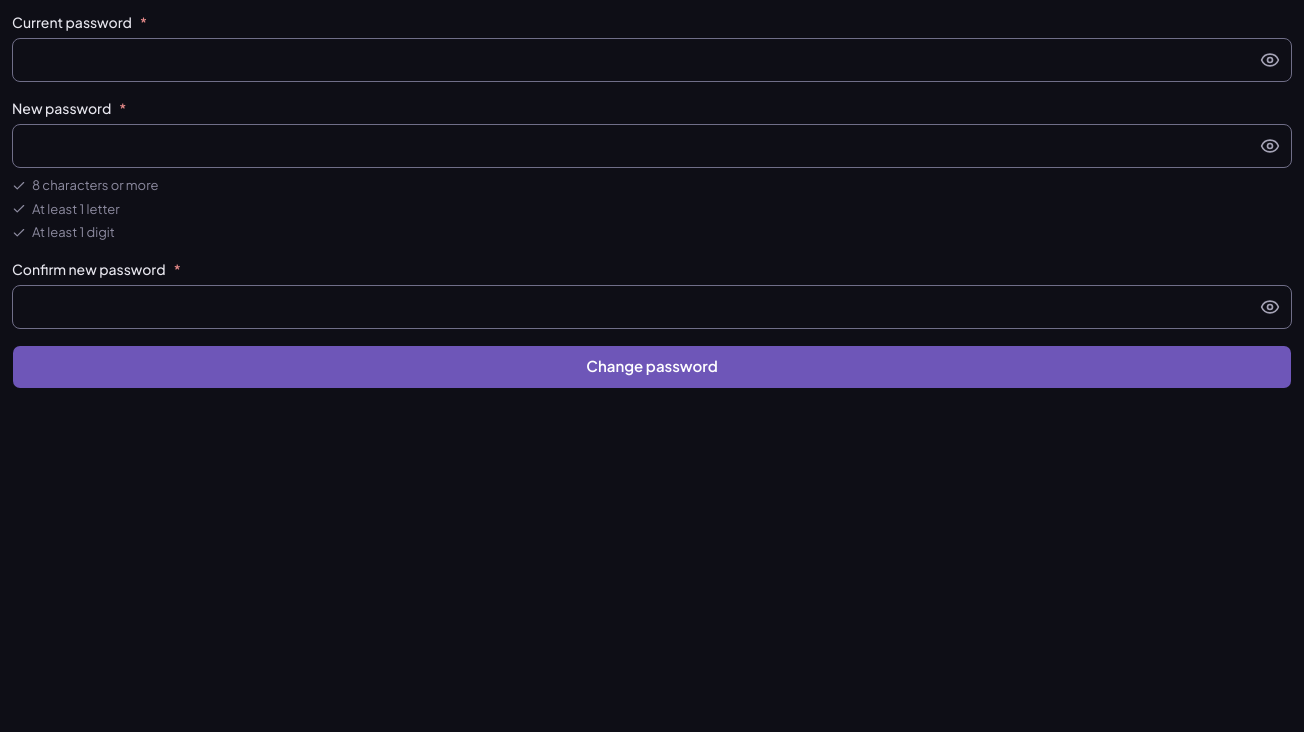
Test: a wrong current password from the backend is shown under the current password field
Type "Wrong1234" into the password field labelled "Current password *" at (652, 60), box [12,38,1292,82]
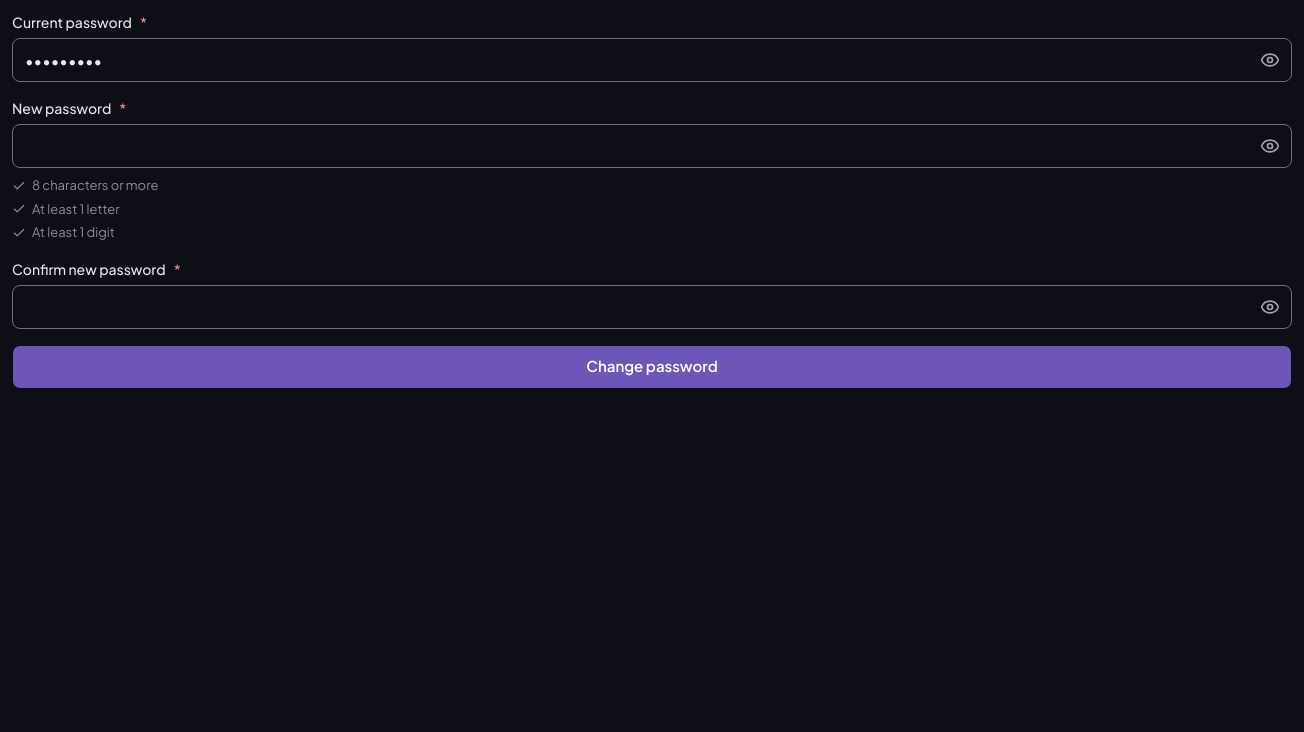
Type "NewPass456" into the password field labelled "New password *" at (652, 146), box [12,124,1292,168]
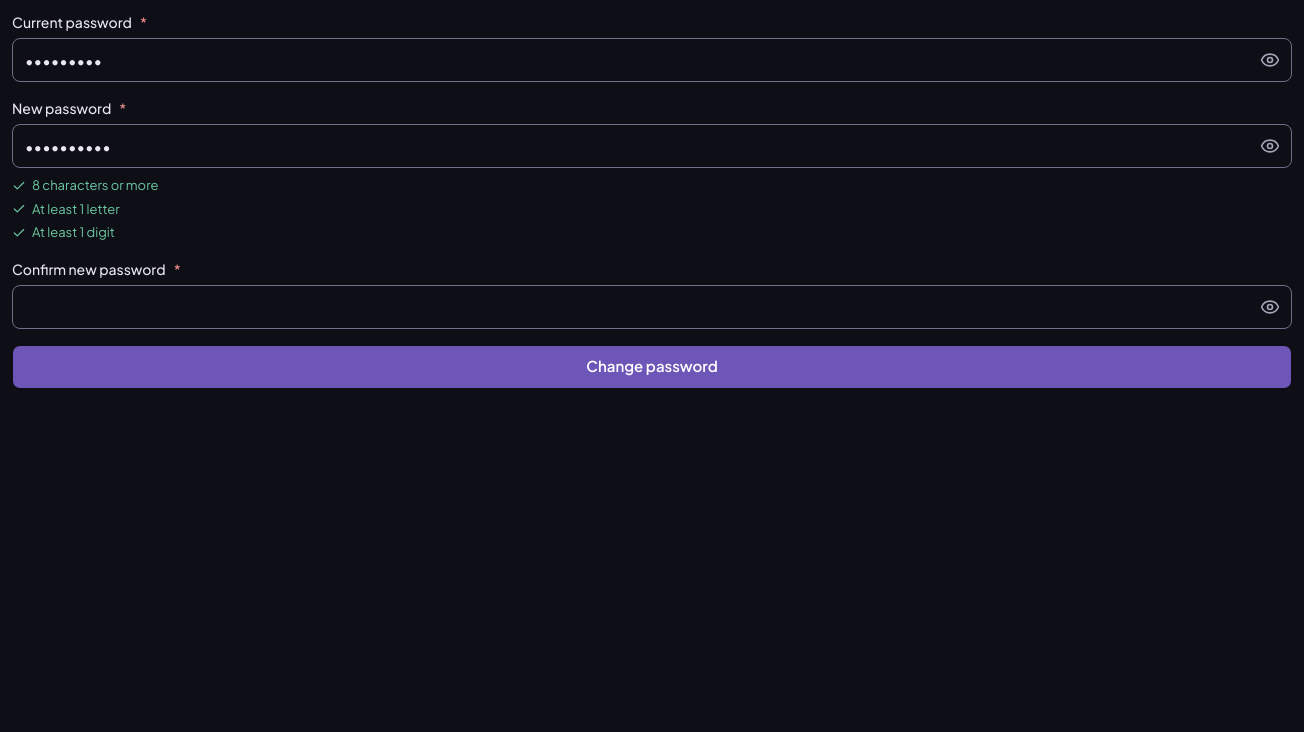
Type "NewPass456" into the password field labelled "Confirm new password *" at (652, 306), box [12,284,1292,328]
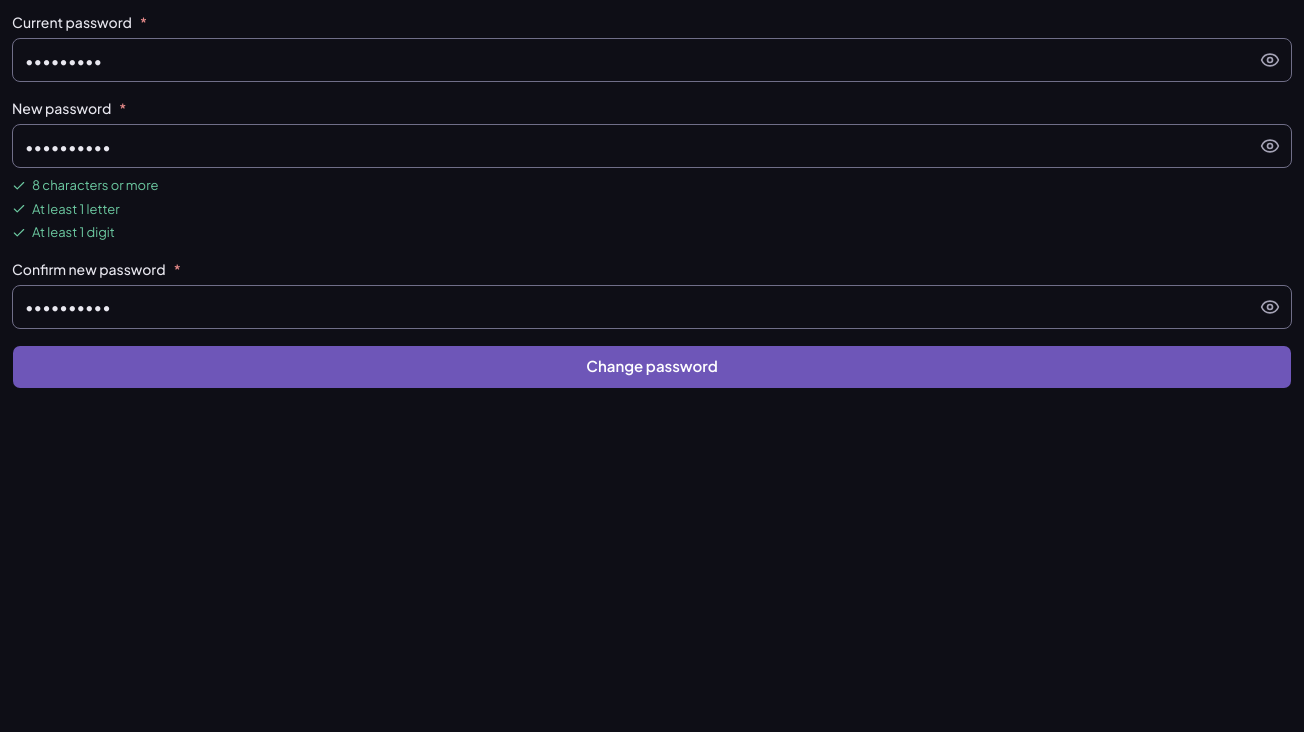
Click the button "Change password" at (652, 366), box [12,344,1292,388]
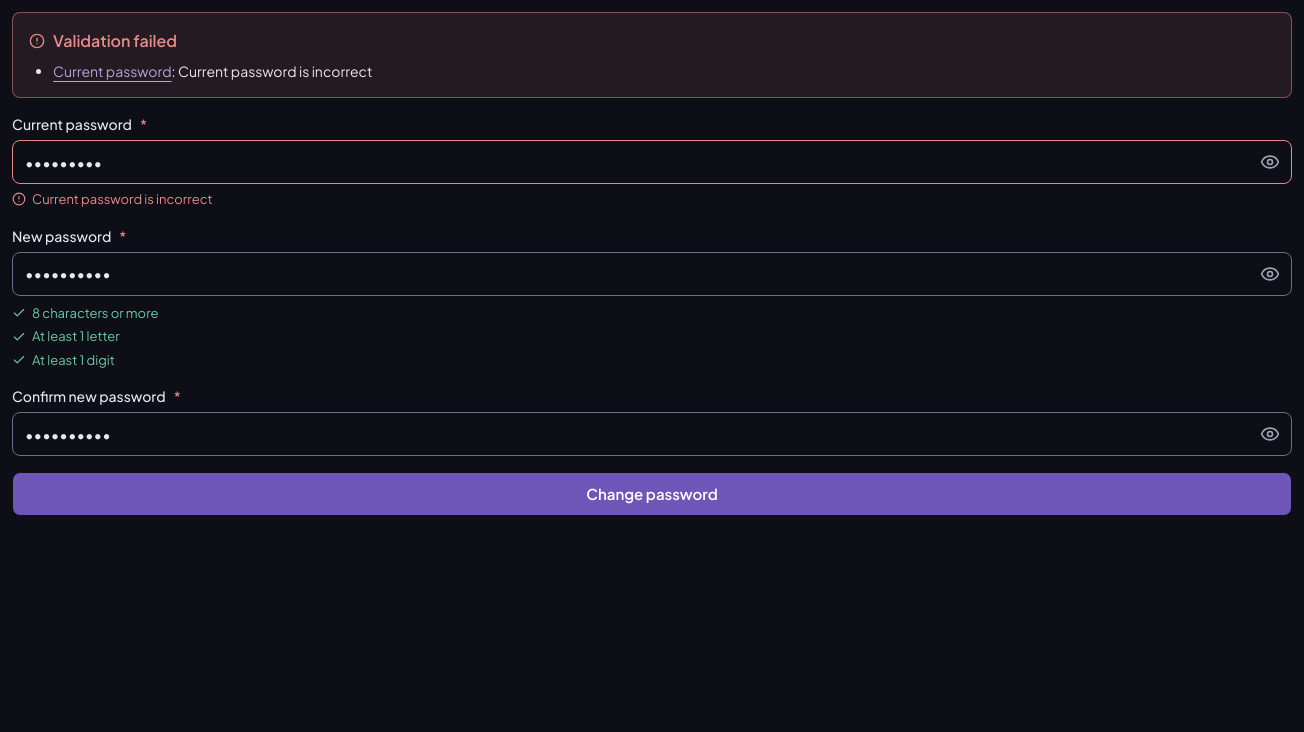
Expected: the message "Validation failed Current password : Current password is incorrect" is shown, [12,12,1292,98]
Expected: the element showing "Current password is incorrect" is shown, [12,191,212,207]
